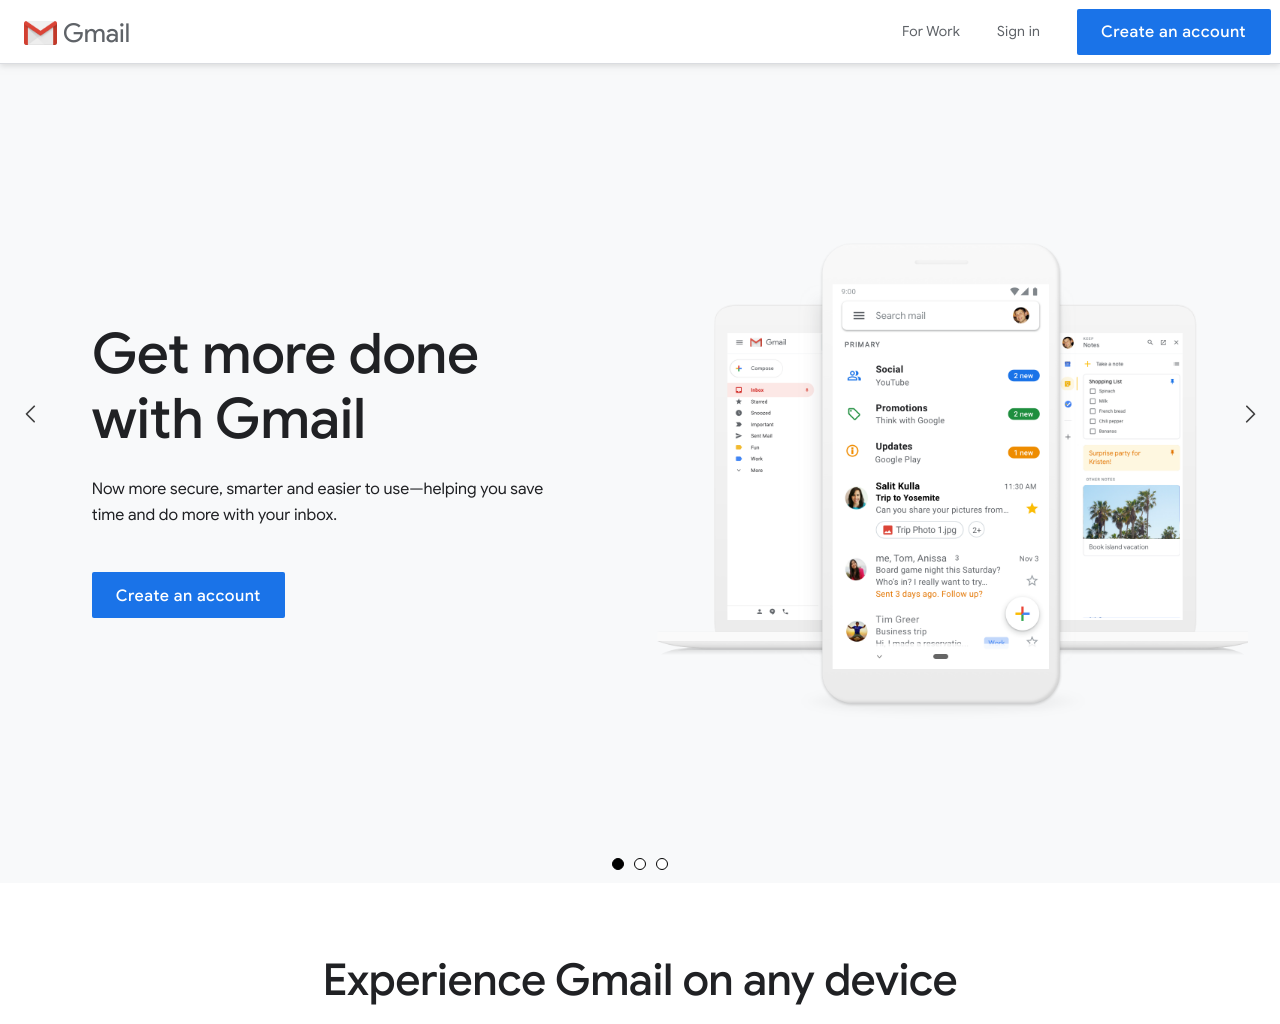Google: (11, 17, 138, 53)
